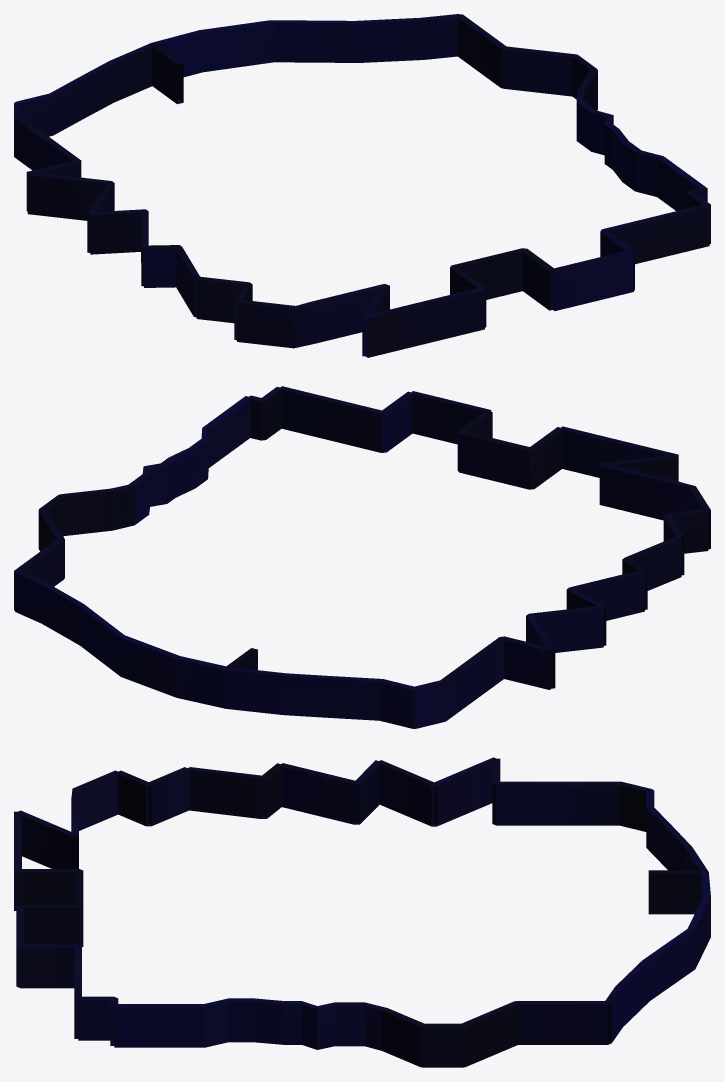
File: nav_wall.dae
3 views of the same model, one above another, from view 1: azimuth 30°, elevation 25°; view 2: azimuth 150°, elevation 25°; view 3: azimuth 270°, elevation 25° (orthographic). The views are drawn at different scales.
Parts seen in each view (by area): view 1: Cube; view 2: Cube; view 3: Cube.
Part boxes in pixels (x1,y1,x2,y2): Cube: [14, 14, 710, 357]; Cube: [14, 386, 710, 728]; Cube: [14, 757, 710, 1067].
Size of the model in its own units: 7.36 by 8.04 by 0.5165.
